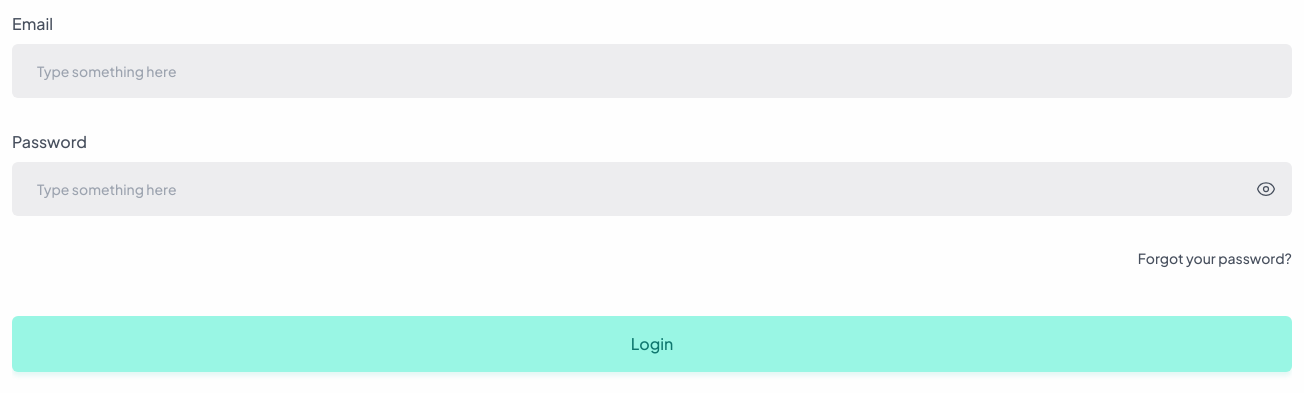
Test: Functionality › should render correct error when email input is not valid
Type "invalid-email" into the field labelled "Email". click: (652, 71)
box: [12, 44, 1292, 98]
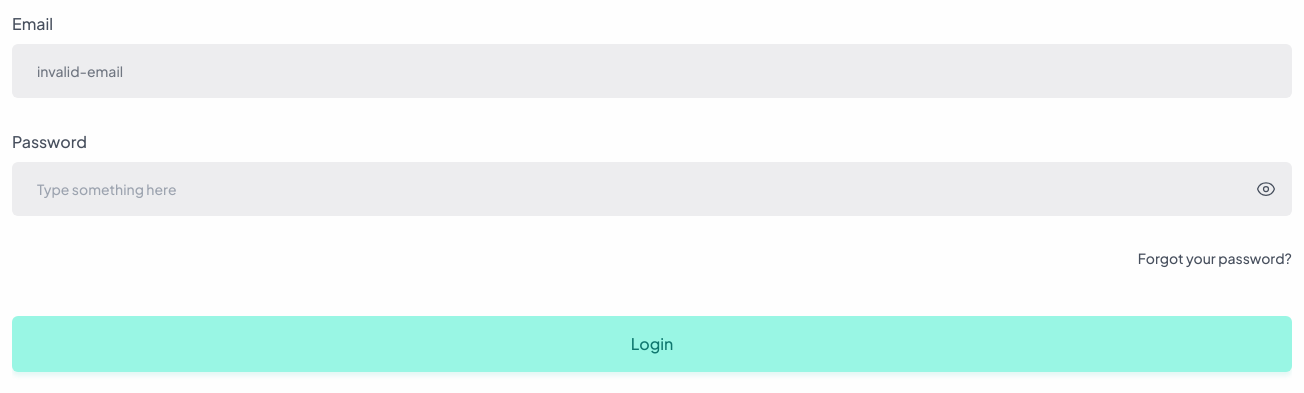
Type "password" into the password field labelled "Password". click: (652, 189)
box: [12, 162, 1292, 216]
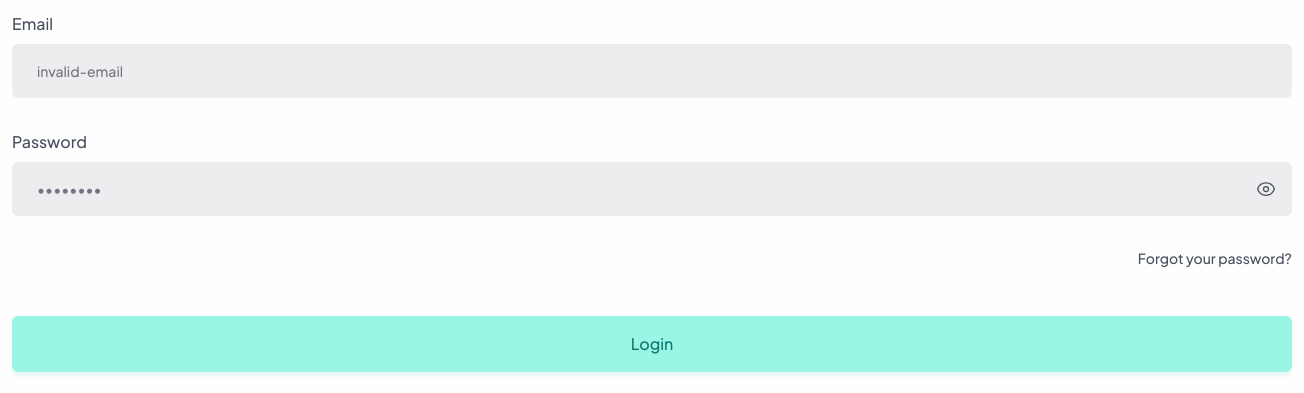
Click the button "Login". click: click(652, 344)
box: [12, 316, 1292, 372]
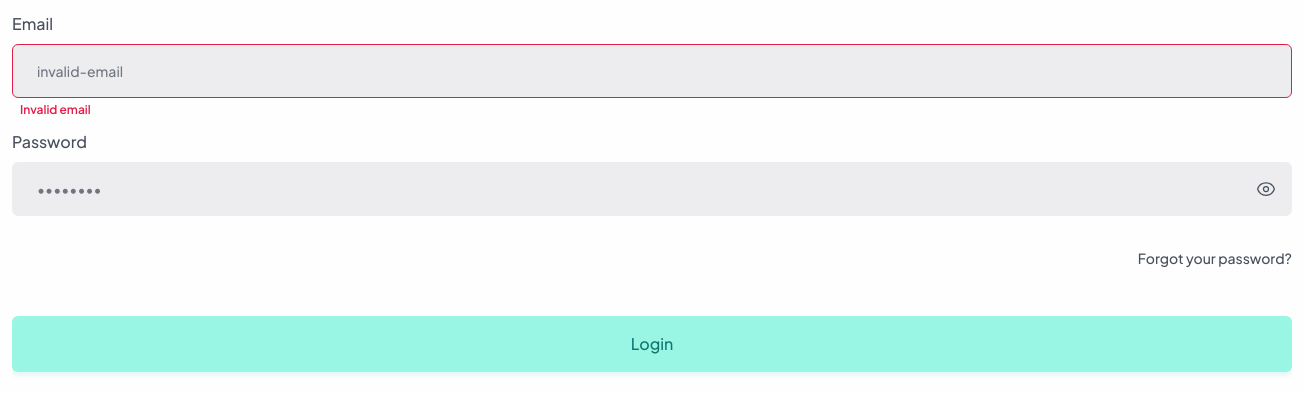
Expected: the text "Invalid email" is shown, [20, 102, 91, 118]
